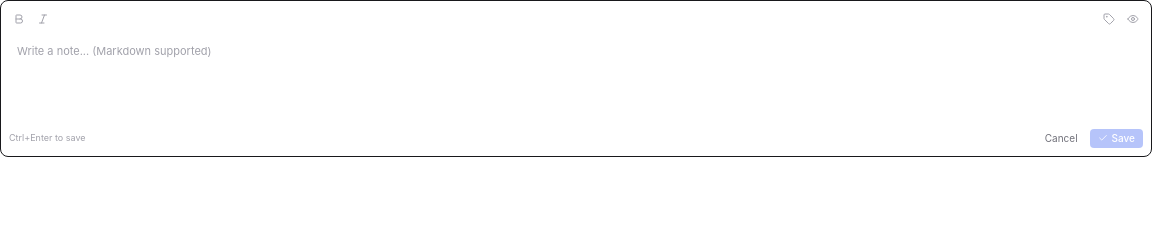
Test: NoteEditor › tag management › adds a tag via the tag input
Click the button titled "Add tags" at (1109, 19), box [1099, 9, 1119, 29]
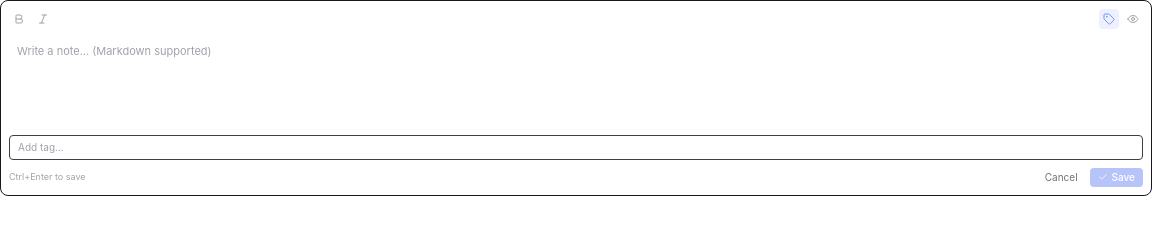
Type "new-tag" into the field with placeholder "Add tag..." at (576, 147), box [9, 134, 1143, 160]
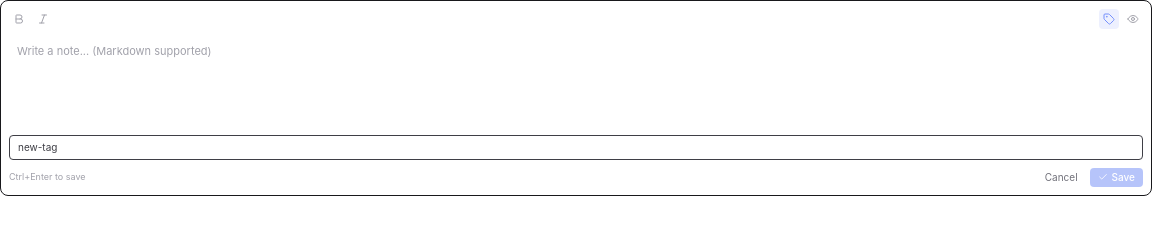
Press Enter in the field with placeholder "Add tag...", box [9, 134, 1143, 160]
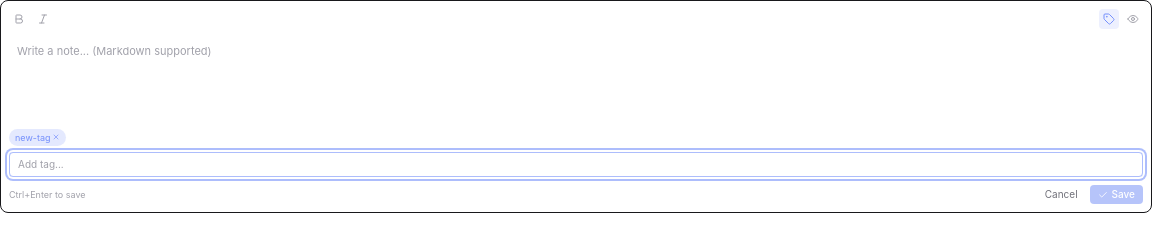
Now the text "new-tag" is shown, box [9, 128, 66, 146]
